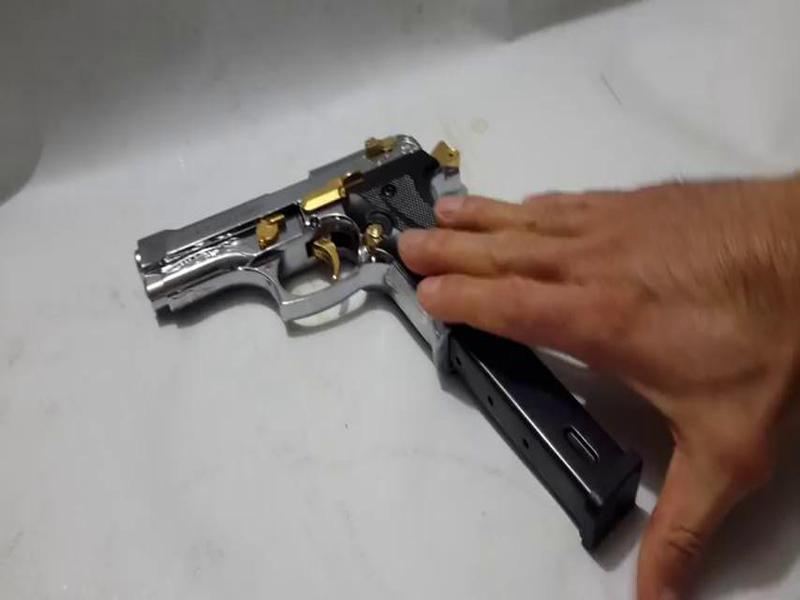Pistola: (108, 115, 553, 388)
